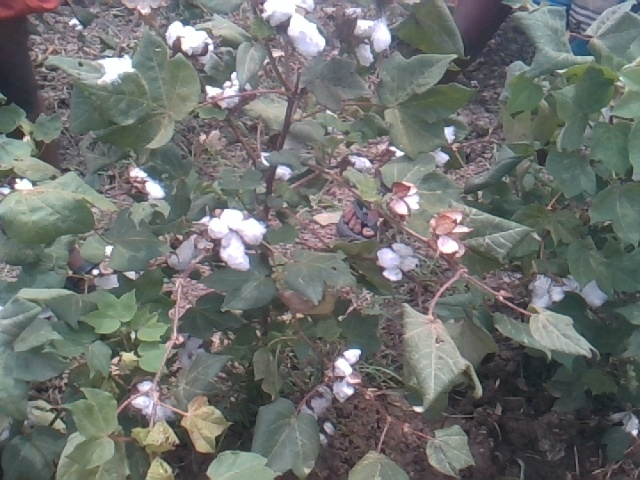cotton: (259, 1, 333, 54), (205, 206, 259, 271), (167, 19, 213, 66), (373, 240, 422, 280), (331, 346, 363, 404), (130, 166, 167, 200), (531, 273, 565, 310), (391, 182, 421, 215)
